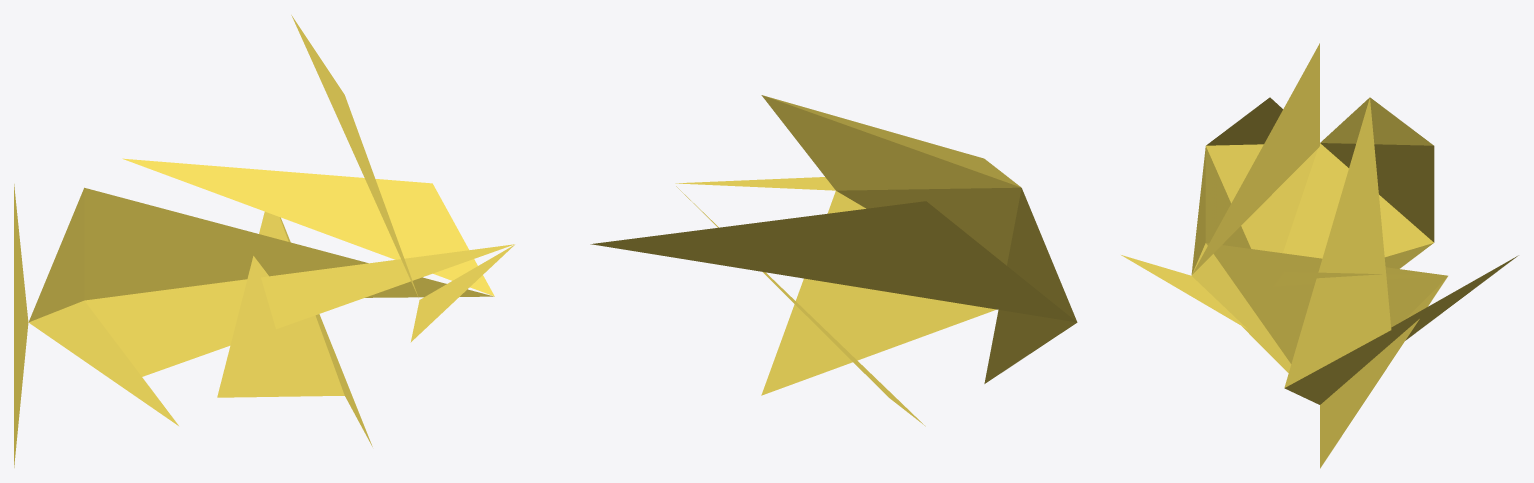
File: super_pez.glb
3 renders of one model, left to right at view 1: azimuth 30°, elevation 25°; view 2: azimuth 150°, elevation 25°; view 3: azimuth 270°, elevation 25°, orthographic. The views are drawn at different scales.
Visible parts, largest first — view 1: super_pez; view 2: super_pez; view 3: super_pez.
Part boxes in pixels (box(x1,y1,x2,y2)): super_pez: box(14, 15, 514, 467); super_pez: box(590, 95, 1077, 426); super_pez: box(1121, 43, 1518, 468).
Size of the model in its own units: 1.46 by 1.21 by 1.12.
